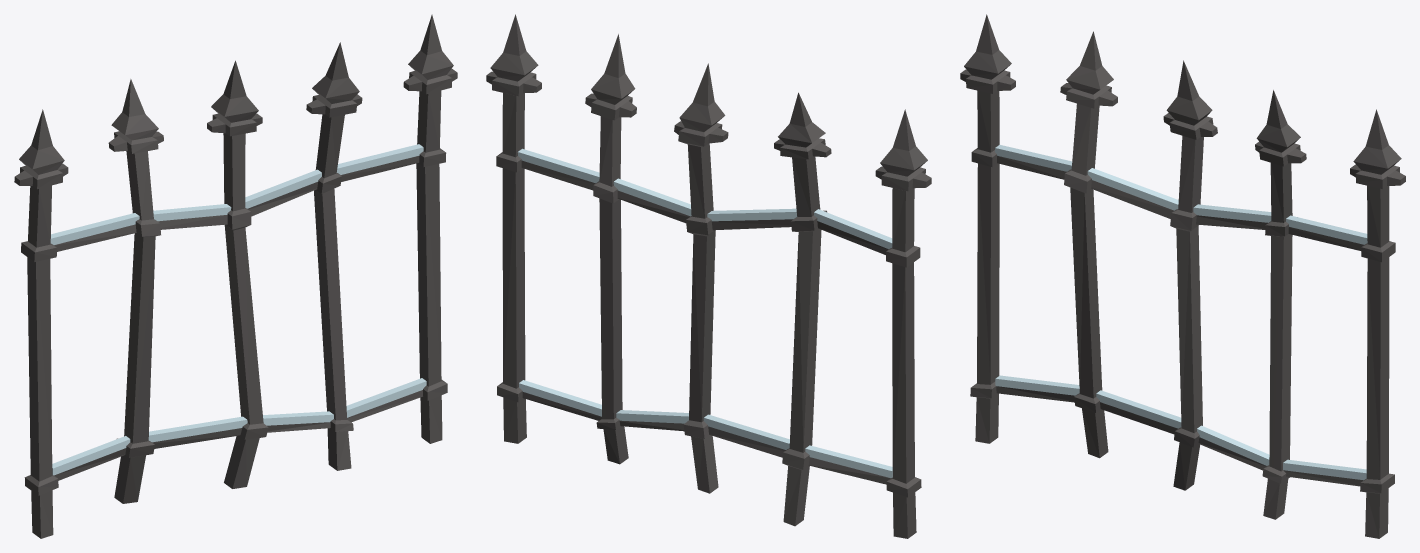
File: SM_Prop_Fence_01_Snow.gltf
3 views of the same model, side by side, from view 1: azimuth 30°, elevation 25°; view 2: azimuth 150°, elevation 25°; view 3: azimuth 330°, elevation 25° (orthographic).
Parts seen in each view (by area): view 1: SM_Prop_Fence_01_Snow; view 2: SM_Prop_Fence_01_Snow; view 3: SM_Prop_Fence_01_Snow.
Boxes of the visible parts, left/top/right/bottom form: SM_Prop_Fence_01_Snow: left=14, top=14, right=457, bottom=538; SM_Prop_Fence_01_Snow: left=486, top=14, right=931, bottom=538; SM_Prop_Fence_01_Snow: left=960, top=14, right=1405, bottom=538.
Bounding box in the file's own units: 1.66 × 1.54 × 0.1987.
1 material, 1 textured.
